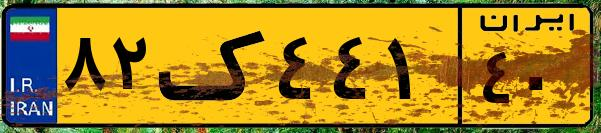0: (525, 38, 570, 115)
1: (385, 28, 445, 110)
2: (110, 28, 158, 98)
4: (270, 28, 330, 110), (330, 28, 385, 110), (475, 38, 525, 113)
8: (57, 26, 110, 100)
ک: (158, 12, 270, 120)
